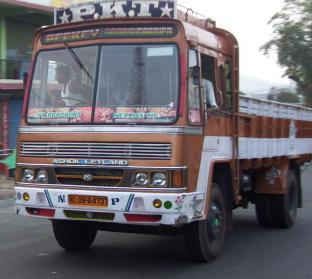truck: (31, 15, 312, 279)
